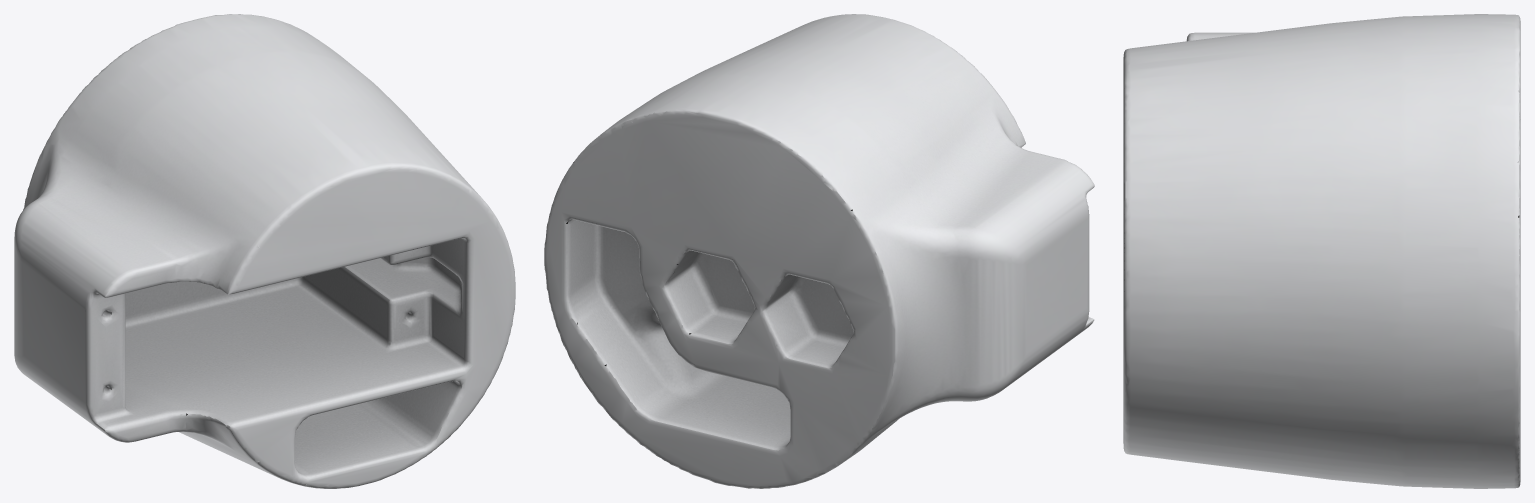
File: right_bisecp_upper.obj
3 renders of one model, left to right at view 1: azimuth 30°, elevation 25°; view 2: azimuth 150°, elevation 25°; view 3: azimuth 270°, elevation 25°, orthographic. The views are drawn at different scales.
Parts seen in each view (by area): view 1: right_bisecp_upper; view 2: right_bisecp_upper; view 3: right_bisecp_upper.
Boxes of the visible parts, x1,y1,x2,y2 form: right_bisecp_upper: [14, 14, 515, 488]; right_bisecp_upper: [544, 14, 1094, 488]; right_bisecp_upper: [1123, 14, 1520, 488].
Size of the model in its own units: 0.0888 by 0.0755 by 0.0632.
Materials: 1 (1 with a texture image).
